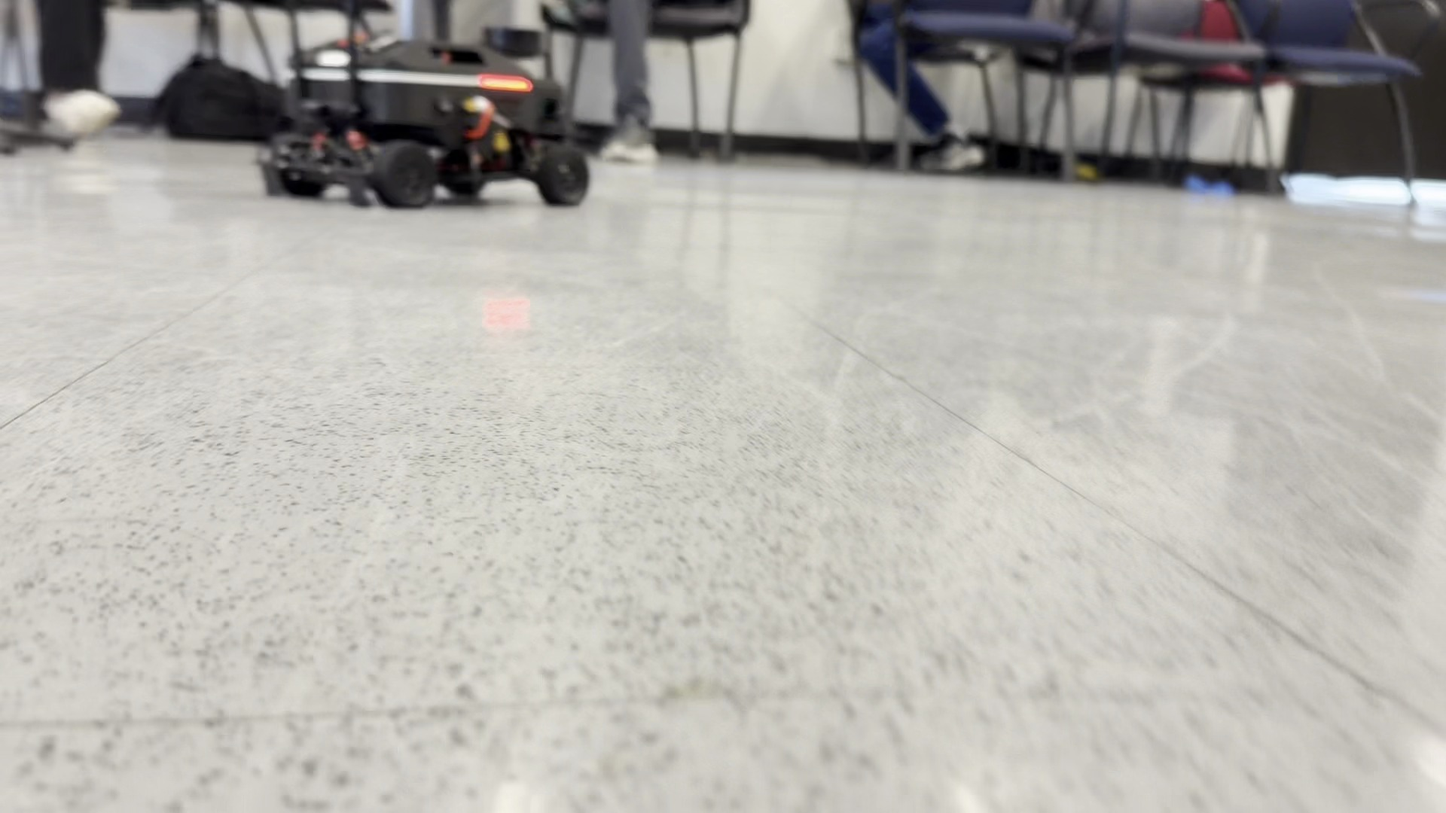racecar: (254, 8, 594, 208)
